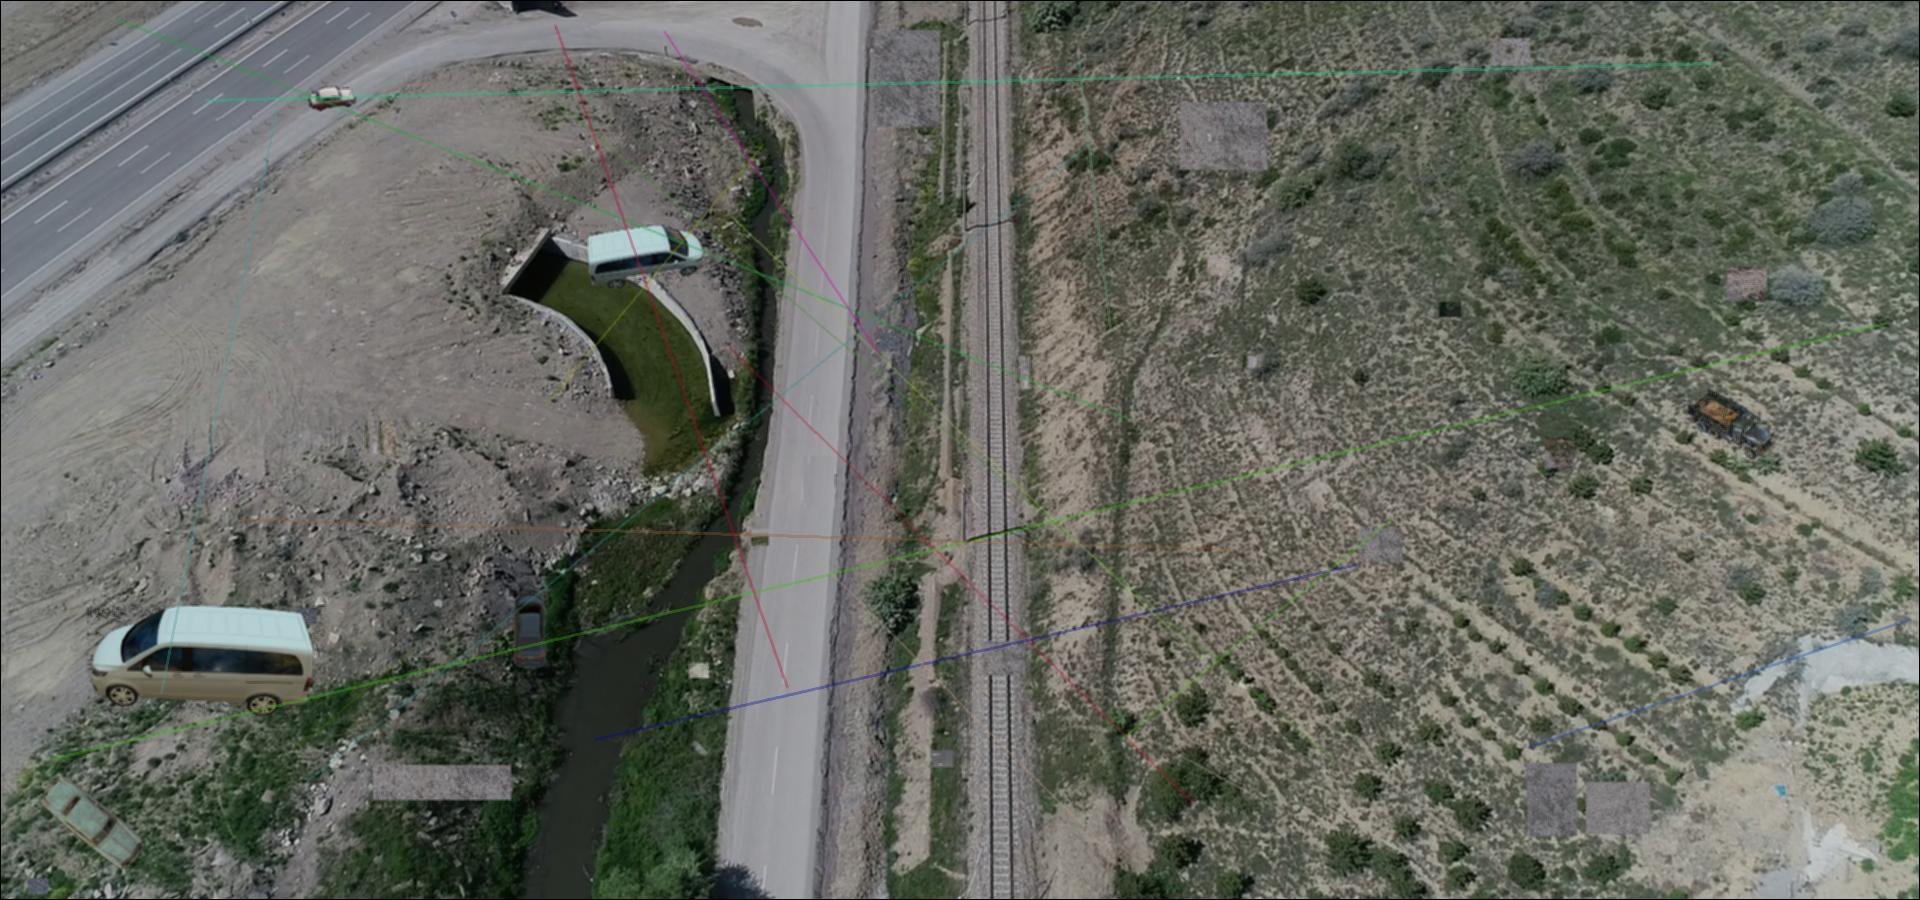arac: (87, 605, 324, 718), (36, 767, 146, 869), (584, 225, 705, 288), (1686, 387, 1776, 460), (509, 594, 549, 669), (309, 86, 356, 111)
